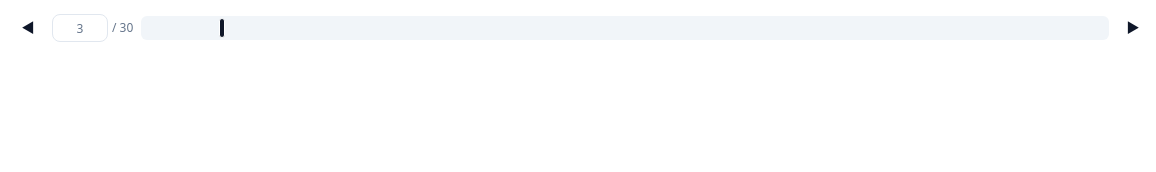
PagePositionBar › 번호 입력의 Esc·포커스 이탈은 확정하지 않고 현재 위치로 되돌린다
This screenshot has width=1156, height=172.
Step 1. Replace the text in the field with test id "bar-input-page" with "9" → (80, 28), box [52,14,108,42]
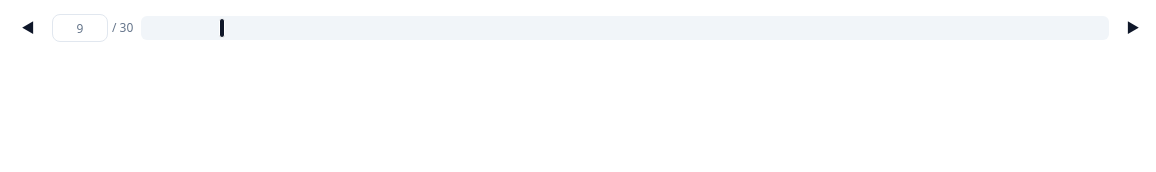
Step 2. Press Escape in the field with test id "bar-input-page", box [52,14,108,42]
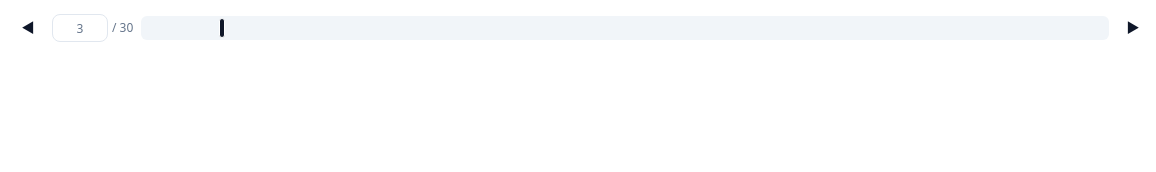
Check: the field with test id "bar-input-page" holds "3"
Step 3. Replace the text in the field with test id "bar-input-page" with "9" → (80, 28), box [52,14,108,42]
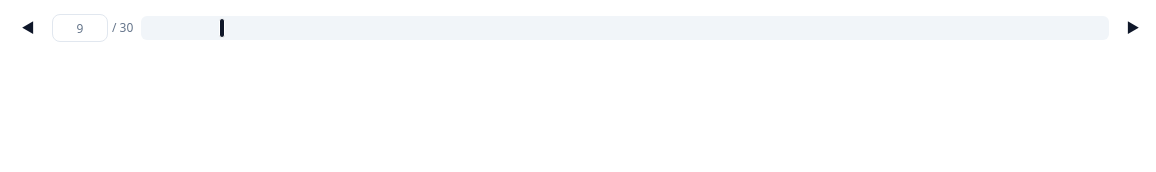
Step 4. Leave the field with test id "bar-input-page", box [52,14,108,42]
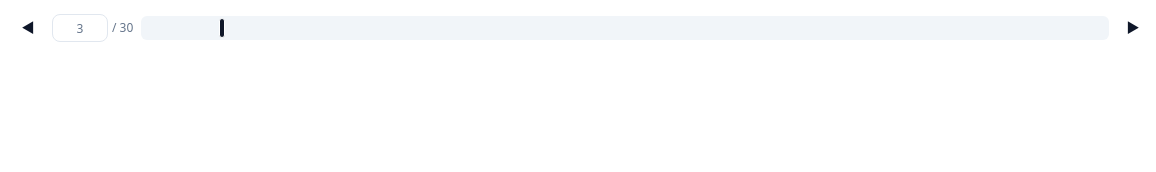
Check: the field with test id "bar-input-page" holds "3", box [52,14,108,42]
